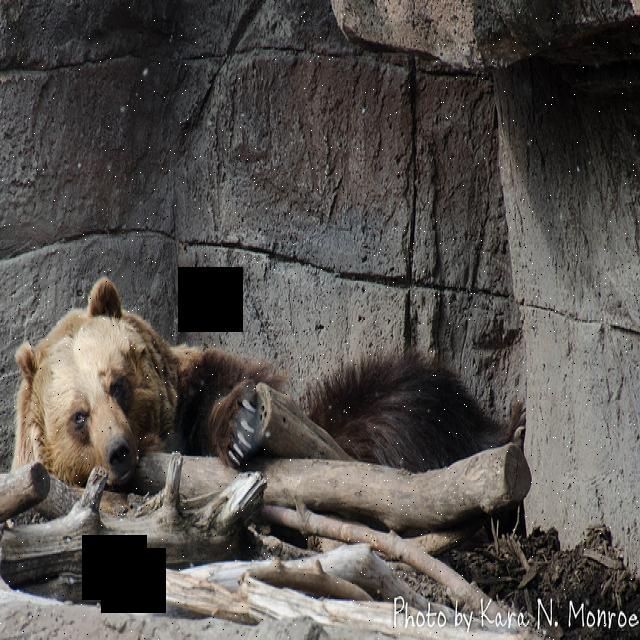Bear: (9, 272, 524, 548)
